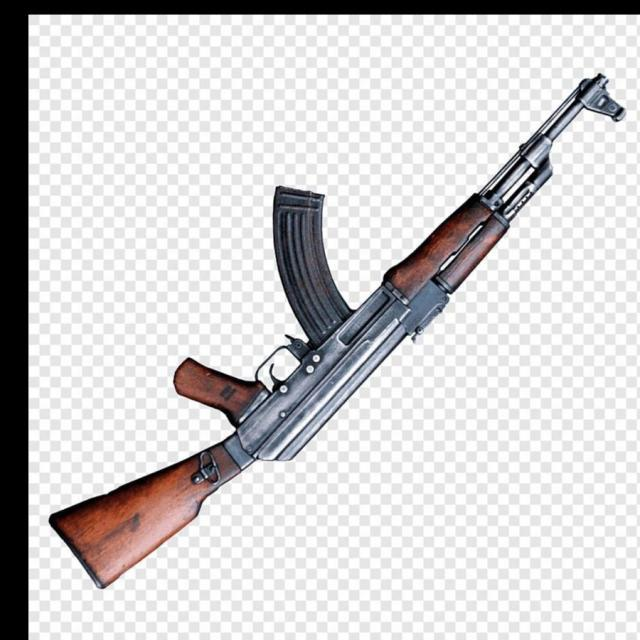weapon: (49, 71, 628, 592)
